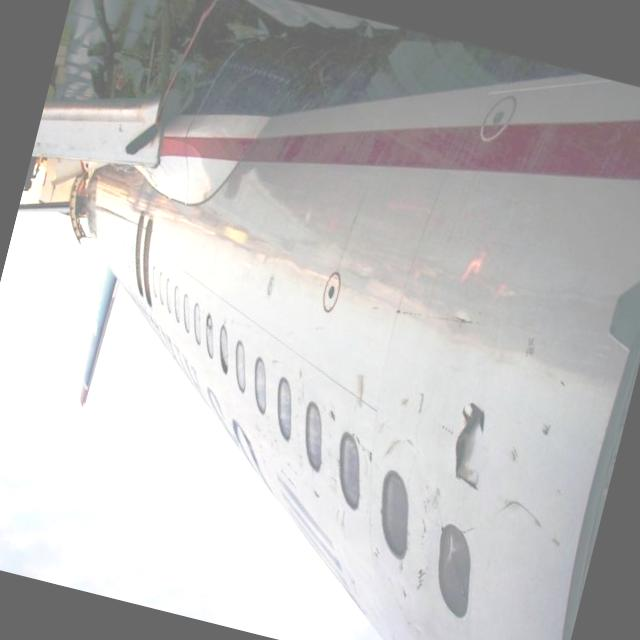crack: (441, 394, 498, 494)
